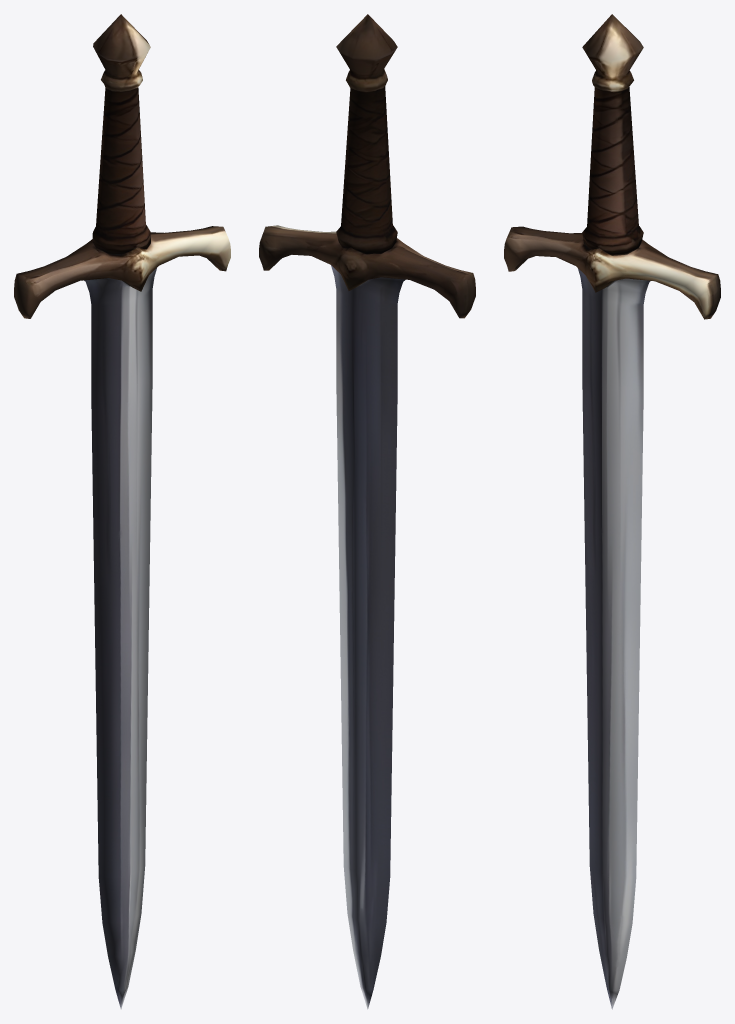
File: sword.glb
3 views of the same model, side by side, from view 1: azimuth 30°, elevation 25°; view 2: azimuth 150°, elevation 25°; view 3: azimuth 330°, elevation 25° (orthographic).
Parts seen in each view (by area): view 1: tripo_node_48dce642-6f18-48bf-b780-f1edb8d27b01; view 2: tripo_node_48dce642-6f18-48bf-b780-f1edb8d27b01; view 3: tripo_node_48dce642-6f18-48bf-b780-f1edb8d27b01.
Part boxes in pixels (<box>): tripo_node_48dce642-6f18-48bf-b780-f1edb8d27b01: <box>14,14,230,1009</box>; tripo_node_48dce642-6f18-48bf-b780-f1edb8d27b01: <box>259,14,475,1009</box>; tripo_node_48dce642-6f18-48bf-b780-f1edb8d27b01: <box>504,14,720,1009</box>.
Size of the model in its own units: 0.2168 by 0.998 by 0.0645.
1 material, 1 textured.
